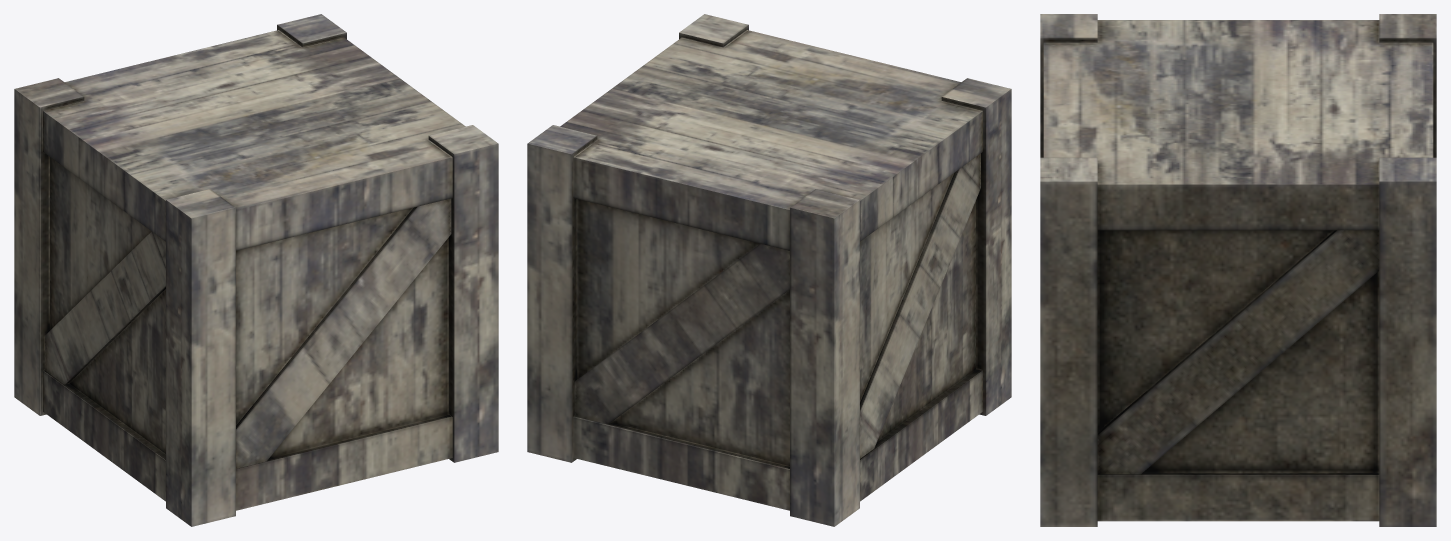
Rendered from Crate_04.FBX.
3 views of the same model, side by side, from view 1: azimuth 30°, elevation 25°; view 2: azimuth 150°, elevation 25°; view 3: azimuth 270°, elevation 25° (orthographic). The views are drawn at different scales.
Visible parts, largest first — view 1: C_04_Unbroken, C_04_Frag03, C_04_Frag01, C_04_Frag07, C_04_Frag02, C_04_Frag05; view 2: C_04_Frag03, C_04_Unbroken, C_04_Frag04, C_04_Frag01, C_04_Frag02, C_04_Frag06, C_04_Frag07, C_04_Frag05; view 3: C_04_Unbroken, C_04_Frag03, C_04_Frag05.
Boxes of the visible parts, x1,y1,x2,y2 form: C_04_Unbroken: (14,14,498,526); C_04_Frag03: (64,14,497,256); C_04_Frag01: (14,97,191,298); C_04_Frag07: (166,200,414,526); C_04_Frag02: (14,267,165,460); C_04_Frag05: (413,250,454,462); C_04_Frag03: (527,14,951,351); C_04_Unbroken: (528,14,1010,501); C_04_Frag04: (577,214,789,510); C_04_Frag01: (785,89,1011,438); C_04_Frag02: (790,231,982,526); C_04_Frag06: (573,256,672,466); C_04_Frag07: (941,97,1011,415); C_04_Frag05: (527,345,577,462); C_04_Unbroken: (1040,14,1436,526); C_04_Frag03: (1043,38,1436,184); C_04_Frag05: (1097,244,1379,475).
Bounding box in the file's own units: 75.61 × 72.6 × 75.53.
